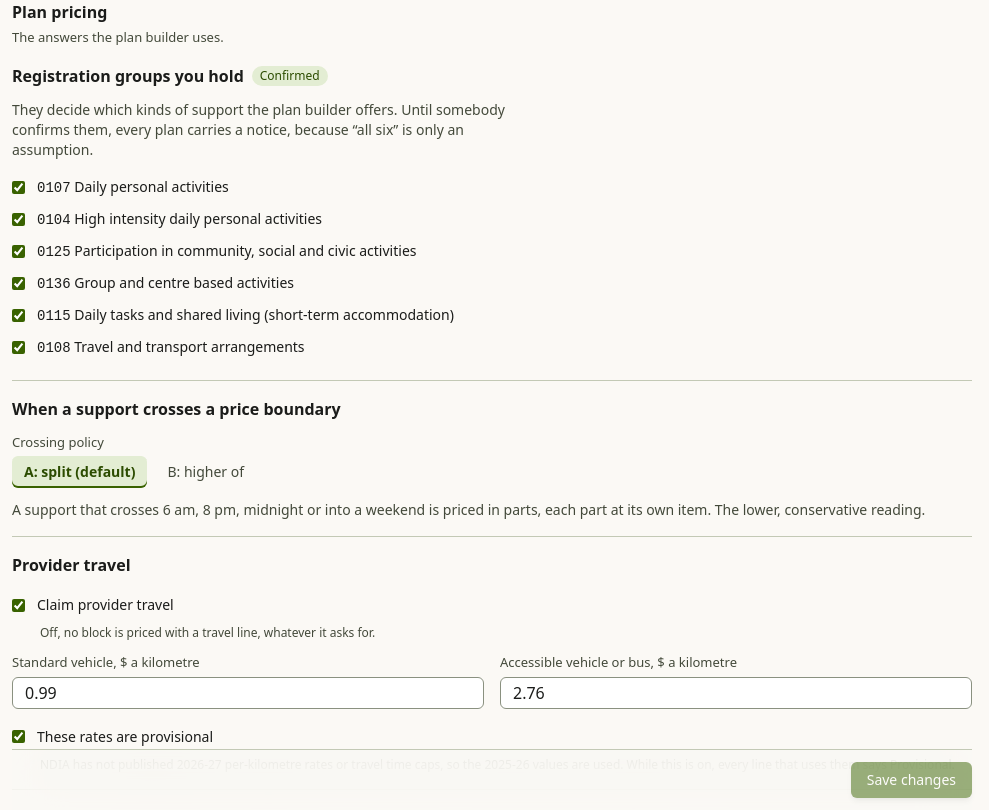
Scenario: Plan pricing settings › sends only what changed, so a stale form cannot undo a setting somebody else just made
Step 1. Click the radio button labelled "B: higher of" → point(206, 472), box [155,456,256,488]
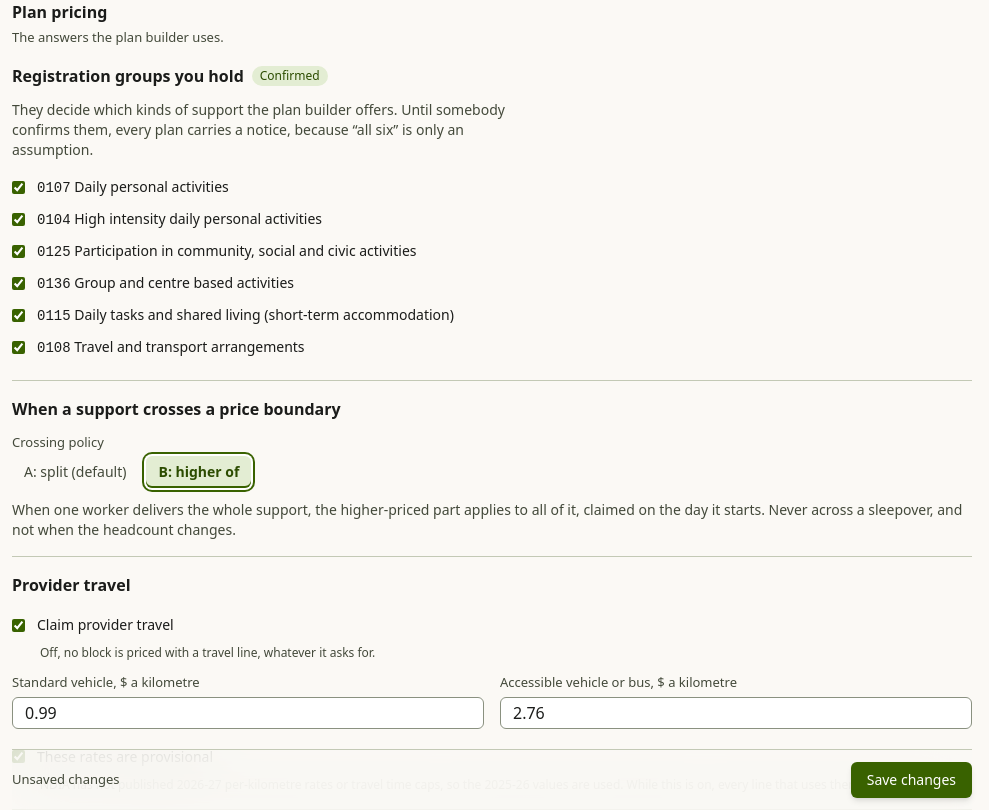
Step 2. Click the checkbox labelled "Claim provider travel" → point(18, 625), box [12,618,25,632]
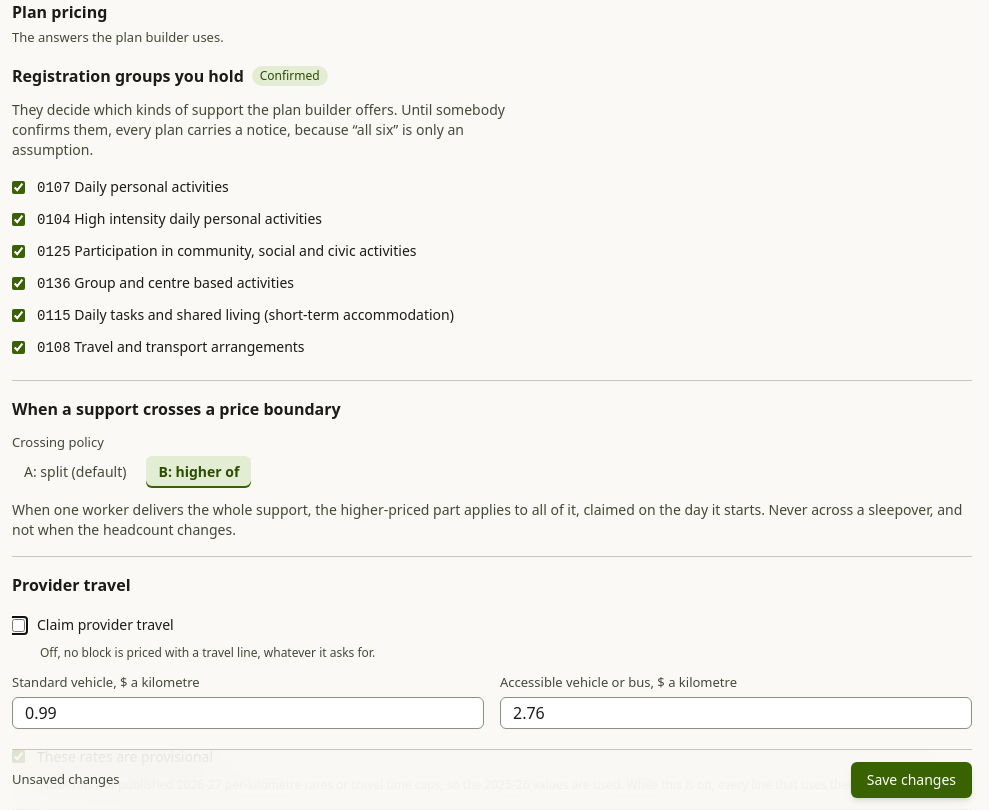
Step 3. Replace the text in the number field labelled "Standard vehicle, $ a kilometre" with "1.05" → point(248, 712), box [12,696,484,728]
(page scrolled)
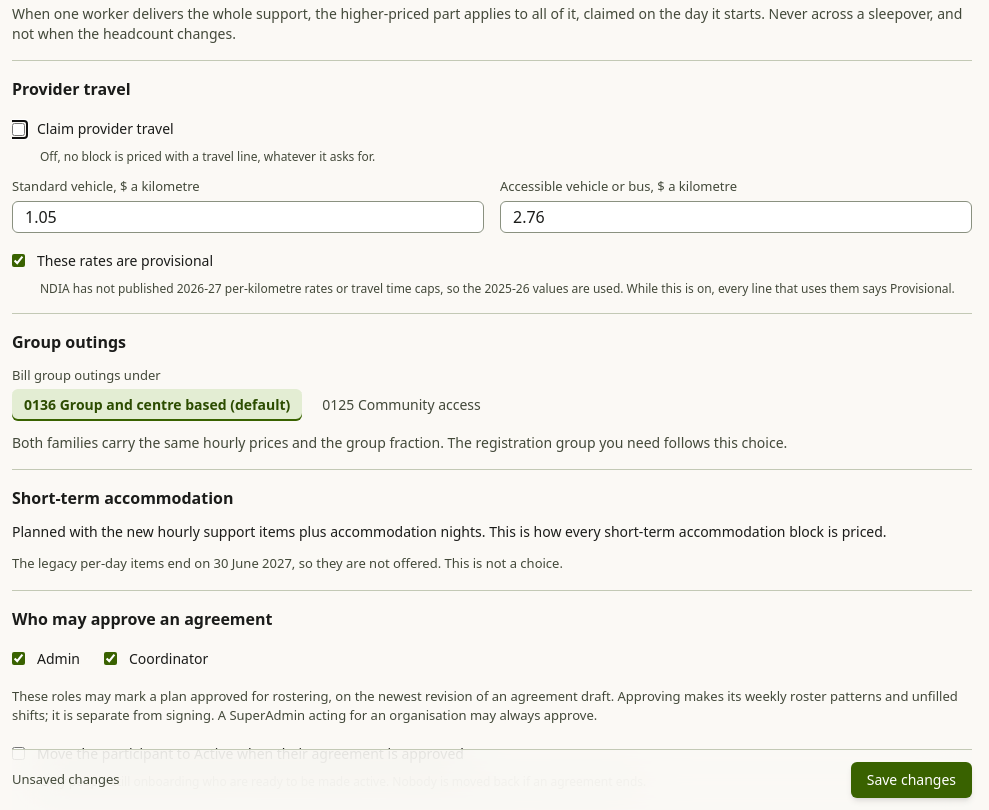
Step 4. Click the radio button labelled "0125 Community access" → point(402, 405), box [310,389,493,421]
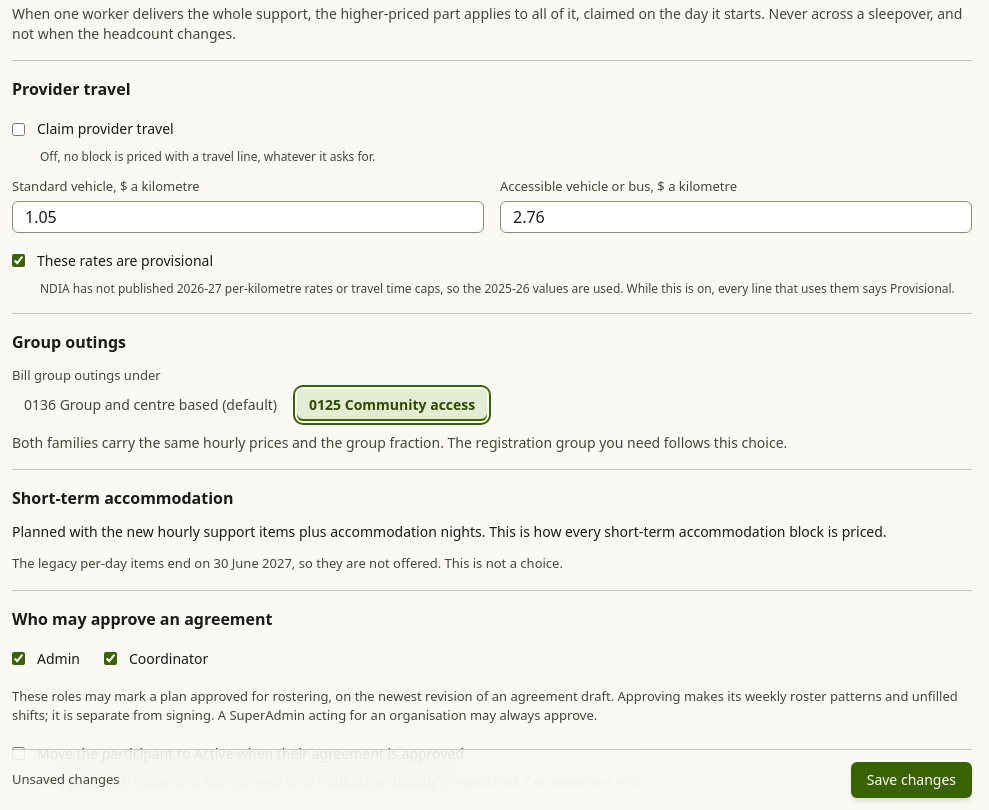
Step 5. Click the checkbox labelled "Coordinator" → point(110, 658), box [104,652,117,665]
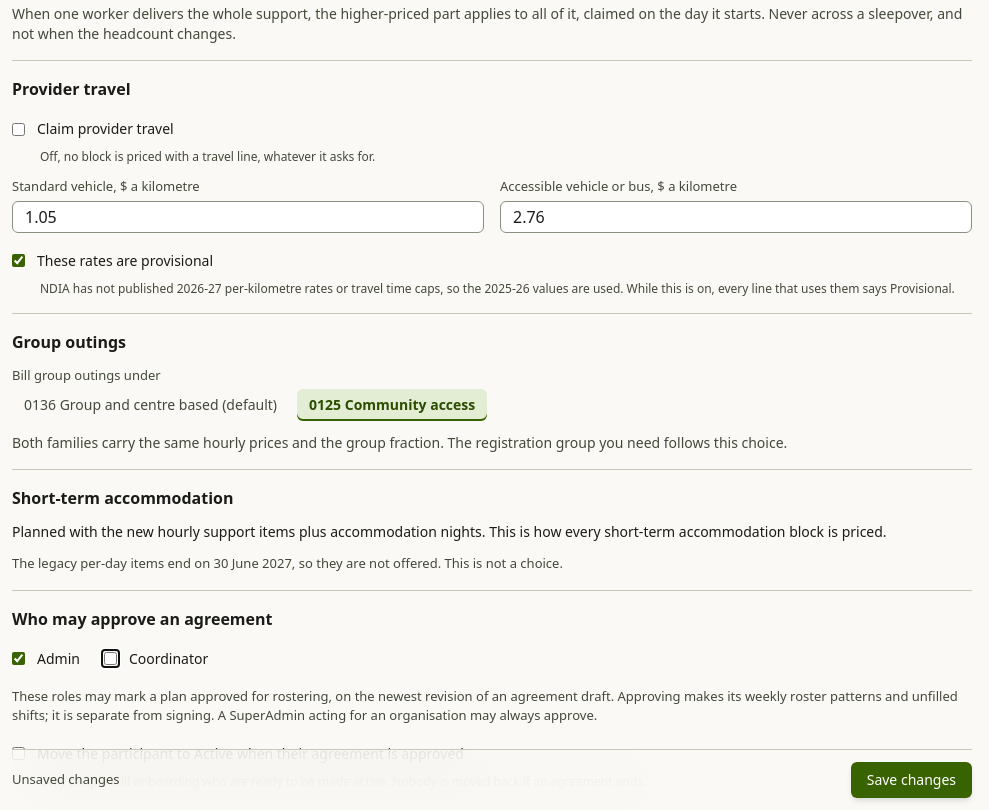
Step 6. Click the button "Save changes" → point(911, 780), box [851,762,972,798]
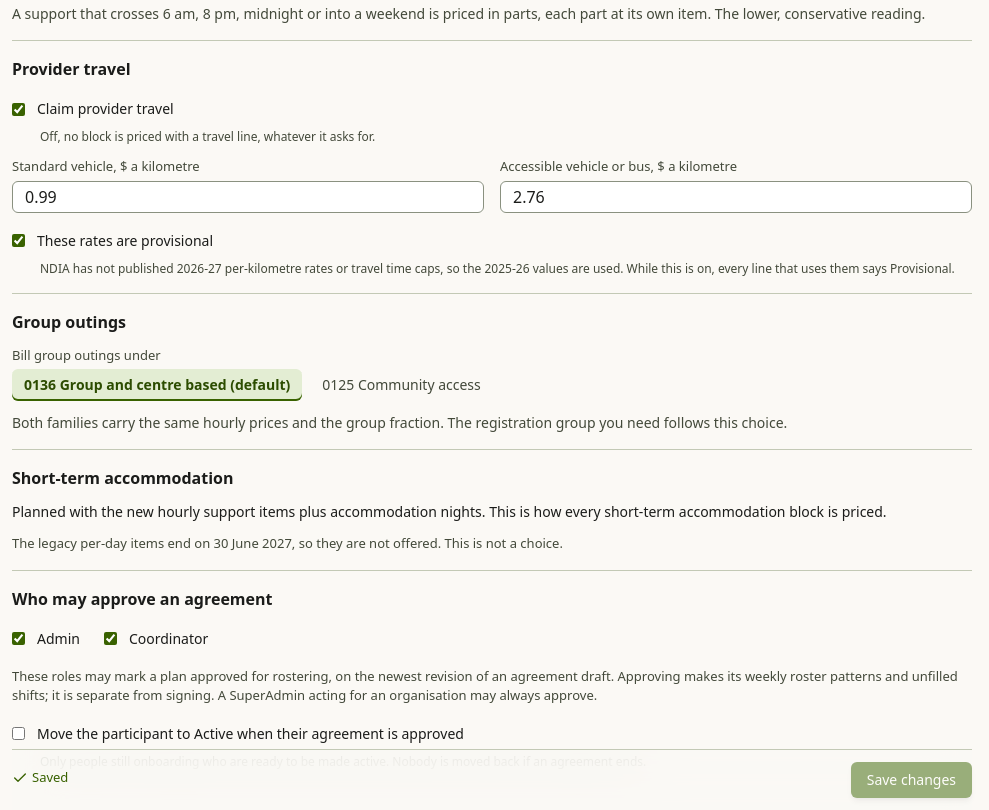
expect the message reads "Saved": met, box [32,768,68,786]
